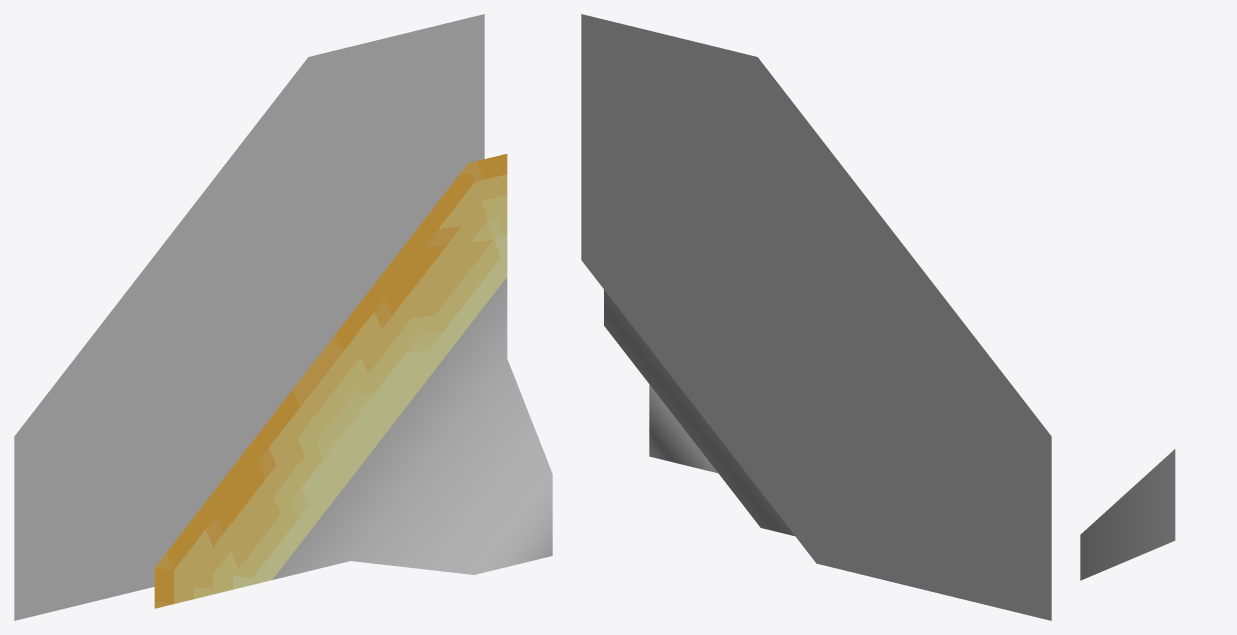
Rendered from lava_corner_out.obj.
3 views of the same model, side by side, from view 1: azimuth 30°, elevation 25°; view 2: azimuth 150°, elevation 25°; view 3: azimuth 270°, elevation 25° (orthographic). The views are drawn at different scales.
Visible parts, largest first — view 1: map; view 2: map; view 3: map.
Boxes of the visible parts, x1,y1,x2,y2 form: map: (14,14,552,620); map: (581,14,1051,620); map: (1080,449,1175,580).
Bounding box in the file's own units: 1.5 × 1.5 × 0.375.
